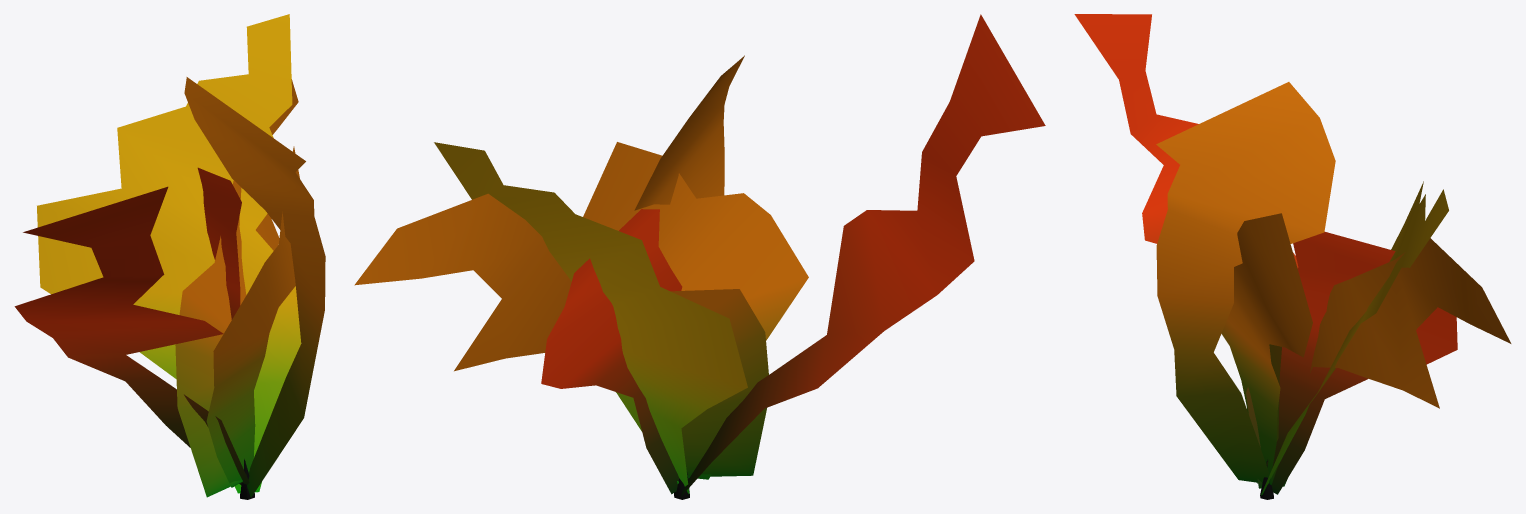
Rendered from SM_Seaweed_1.FBX.
The picture shows the model from 3 angles, left to right: view 1: azimuth 30°, elevation 25°; view 2: azimuth 150°, elevation 25°; view 3: azimuth 270°, elevation 25°; orthographic projection. The views are drawn at different scales.
Parts seen in each view (by area): view 1: Seaweed_LOD0_Var1_sdmmR_1; view 2: Seaweed_LOD0_Var1_sdmmR_1; view 3: Seaweed_LOD0_Var1_sdmmR_1.
Part boxes in pixels (x1,y1,x2,y2): Seaweed_LOD0_Var1_sdmmR_1: (14,14,325,499); Seaweed_LOD0_Var1_sdmmR_1: (354,14,1045,499); Seaweed_LOD0_Var1_sdmmR_1: (1074,14,1511,499).
Bounding box in the file's own units: 37.53 × 32.57 × 32.91.
